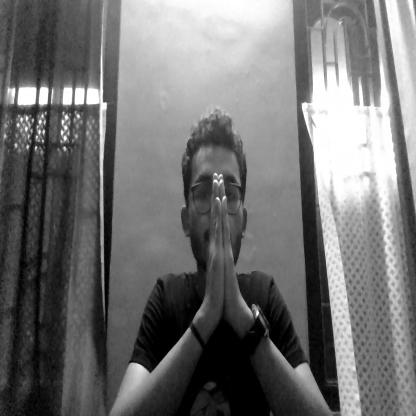Normal: (176, 111, 243, 292)
